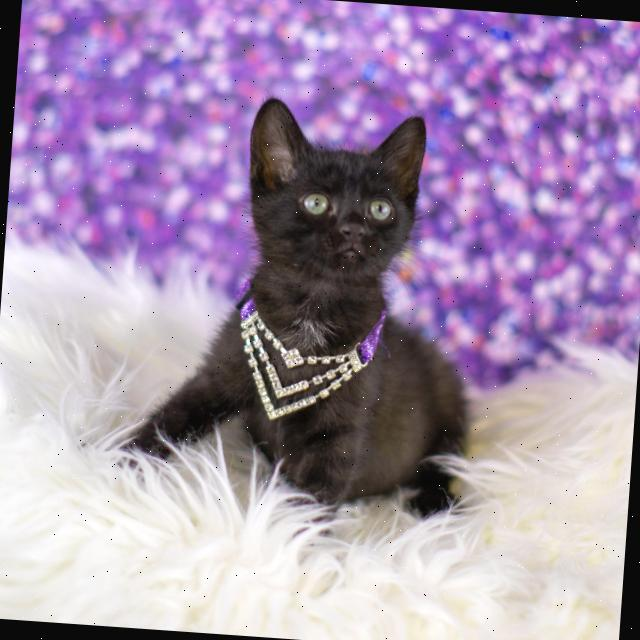bombay_cat: (230, 90, 438, 315)
